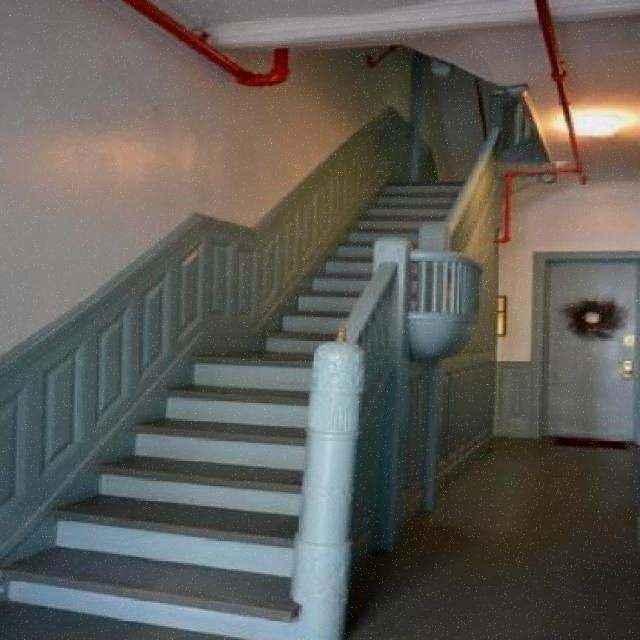stair: (2, 114, 572, 638)
